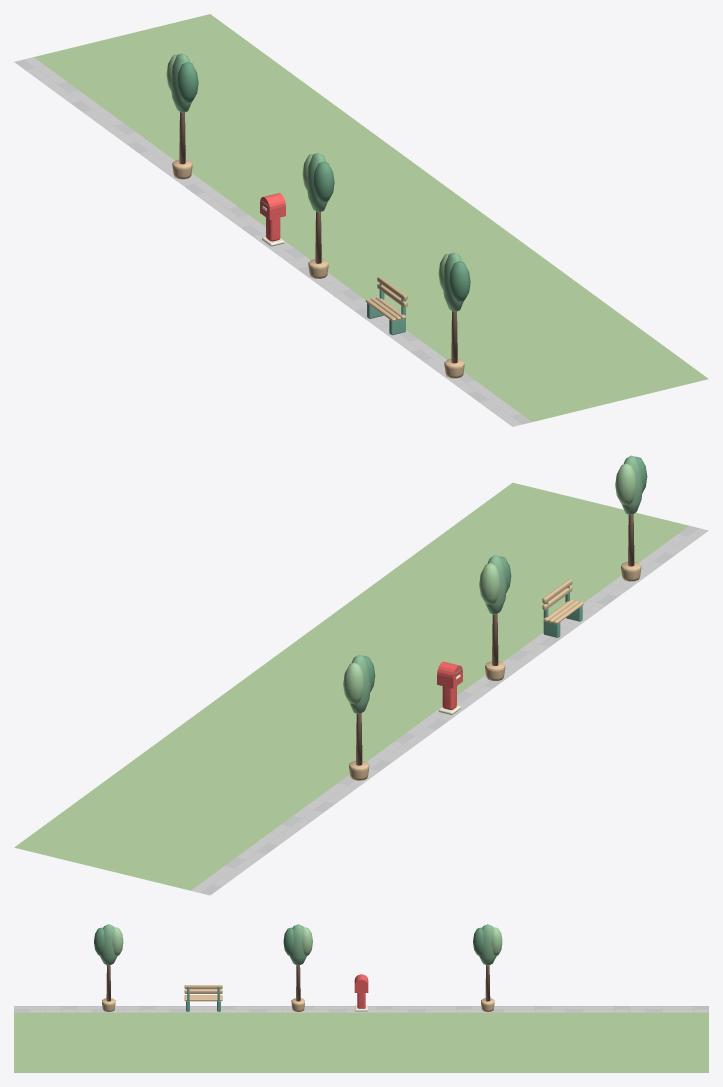
The model's file is town_street_props.glb.
3 views of the same model, one above another, from view 1: azimuth 30°, elevation 25°; view 2: azimuth 150°, elevation 25°; view 3: azimuth 270°, elevation 25° (orthographic). The views are drawn at different scales.
Parts seen in each view (by area): view 1: Lawn, Sidewalk, StreetTree_3, StreetTree_1, StreetTree_2, Bench, Postbox; view 2: Lawn, Sidewalk, StreetTree_3, StreetTree_1, StreetTree_2, Bench, Postbox; view 3: Lawn, Sidewalk, StreetTree_2, StreetTree_3, StreetTree_1, Bench, Postbox.
Part boxes in pixels (x1,y1,x2,y2): Lawn: (34,14,708,421); Sidewalk: (14,57,531,426); StreetTree_3: (438,252,470,378); StreetTree_1: (166,53,198,179); StreetTree_2: (302,153,334,278); Bench: (365,276,407,335); Postbox: (260,193,285,246); Lawn: (14,482,688,890); Sidewalk: (191,525,708,895); StreetTree_3: (615,455,647,581); StreetTree_1: (343,654,375,780); StreetTree_2: (479,555,511,680); Bench: (542,579,583,637); Postbox: (437,661,462,714); Lawn: (14,1012,708,1072); Sidewalk: (14,1006,708,1012); StreetTree_2: (283,924,312,1011); StreetTree_3: (94,924,123,1011); StreetTree_1: (473,924,502,1011); Bench: (184,985,222,1011); Postbox: (354,974,368,1011).
Bounding box in the file's own units: 5 × 2.98 × 22.
Materials: 13 (13 with a texture image).
